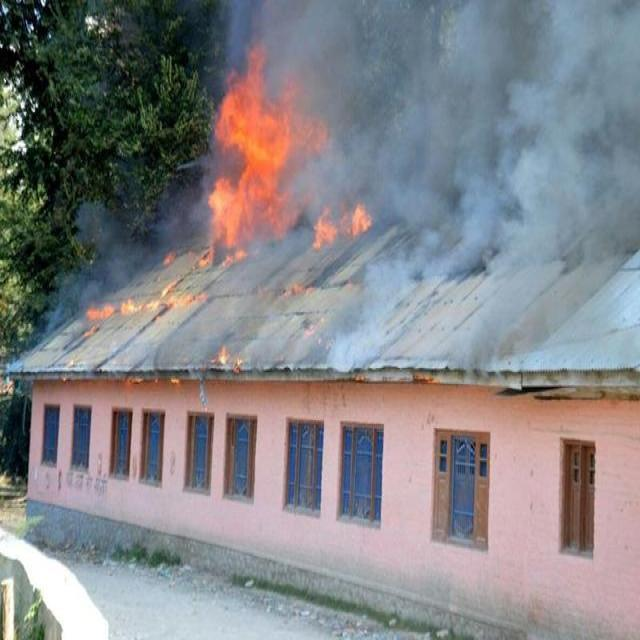Fire: (196, 48, 371, 268), (83, 286, 209, 322), (208, 340, 245, 373)
Smoke: (369, 1, 640, 372), (17, 318, 208, 380), (248, 274, 372, 367), (74, 199, 200, 278), (219, 0, 375, 50)
